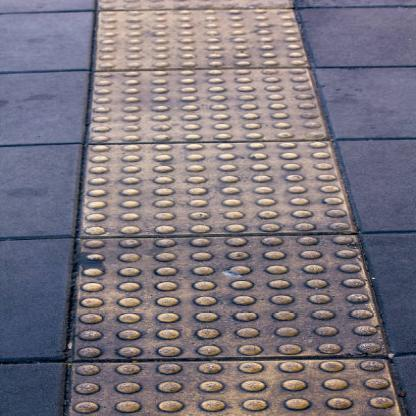podotacti: (66, 1, 402, 415)
